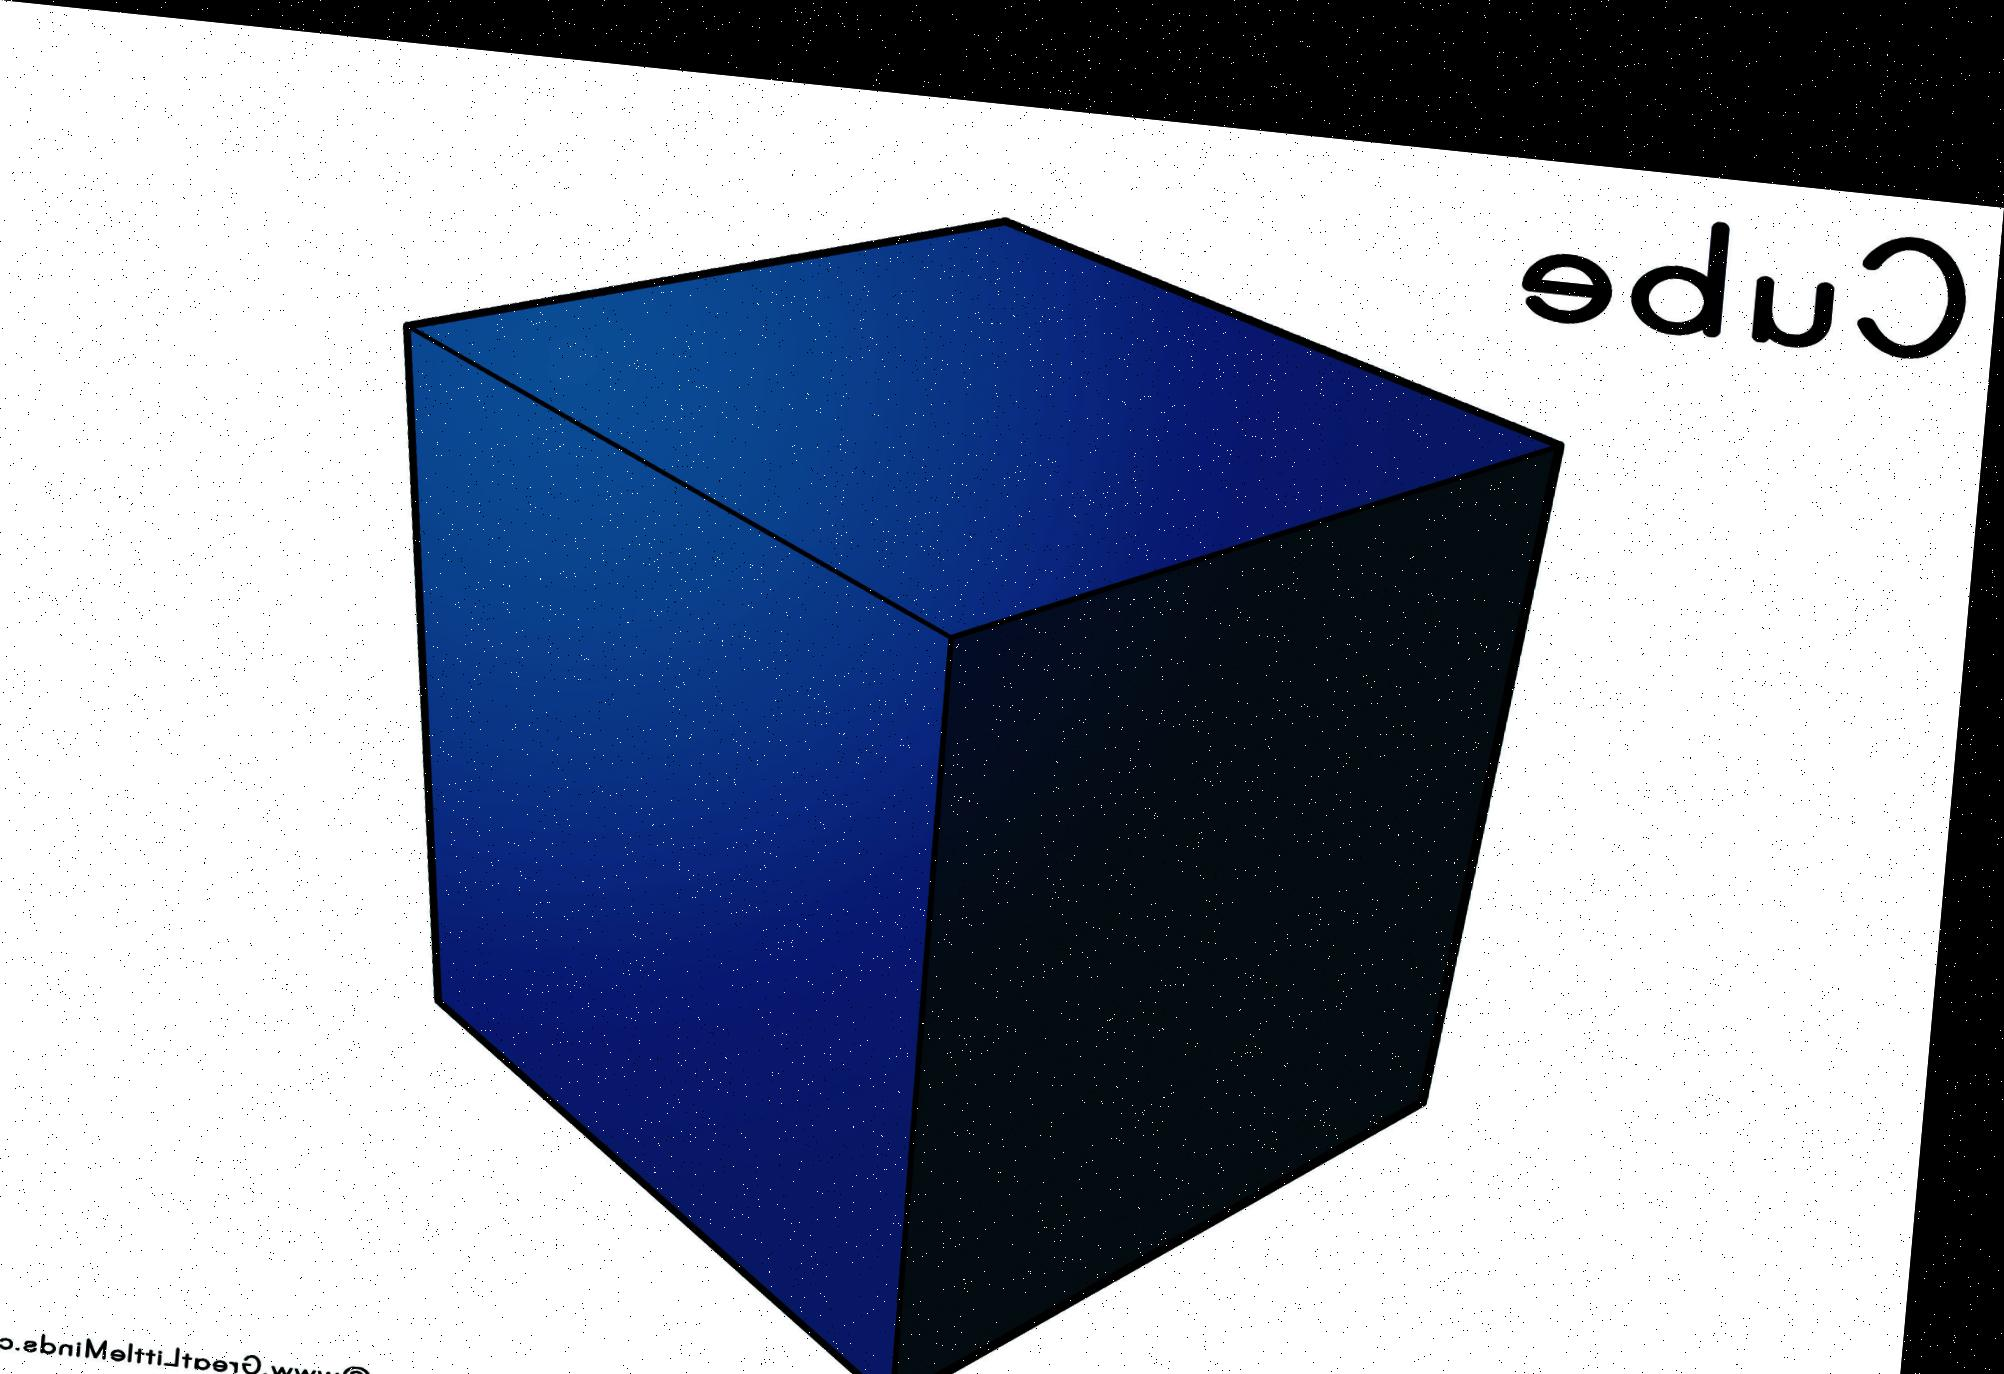cube: (327, 160, 1642, 1374)
